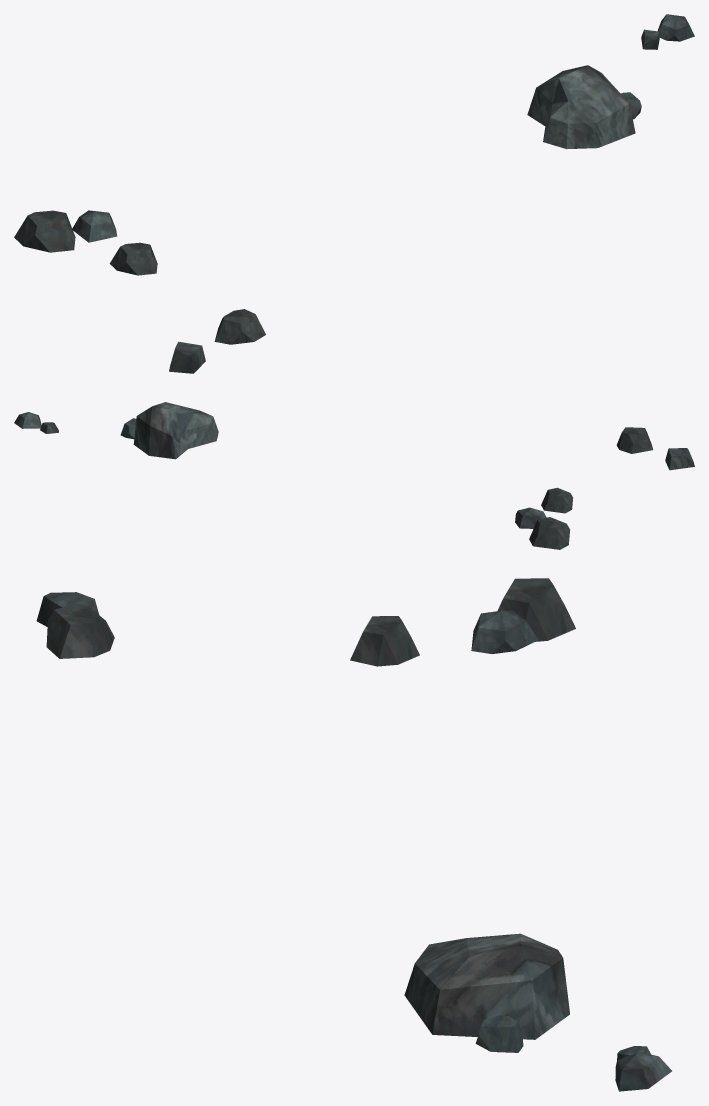
Rendered from object_rubble07.fbx.
3 views of the same model, one above another, from view 1: azimuth 30°, elevation 25°; view 2: azimuth 150°, elevation 25°; view 3: azimuth 270°, elevation 25° (orthographic). The views are drawn at different scales.
Visible parts, largest first — view 1: obj0.084; view 2: obj0.084; view 3: obj0.084.
Part boxes in pixels (x1,y1,x2,y2): obj0.084: [14, 14, 694, 373]; obj0.084: [14, 402, 694, 549]; obj0.084: [36, 578, 671, 1091].
Bounding box in the file's own units: 9.72 × 0.7008 × 5.01.
